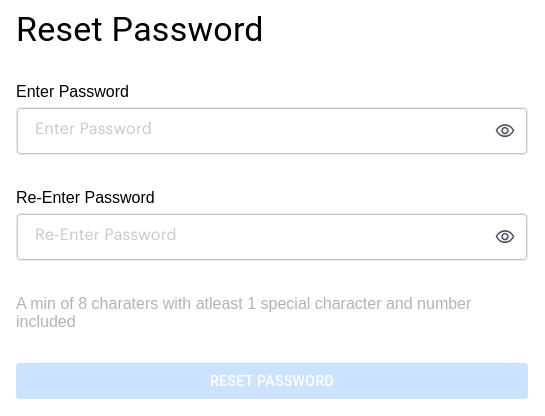
Test: Reset Password › should render password error message for length 8 correctlyy
Type "Abcde@2" into the field with id "textfield-input" at (250, 131), box [21,104,479,158]
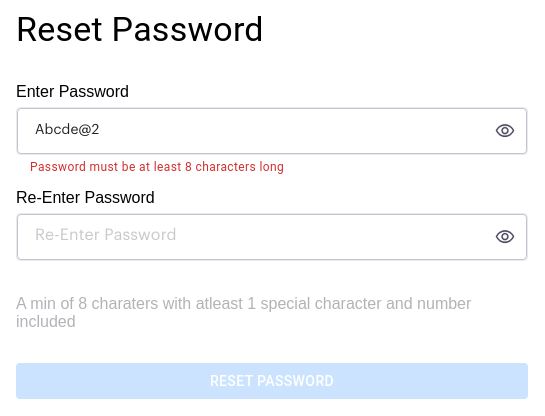
Check: the text "Password must be at least 8 characters long" is shown, box [30,160,284,174]
